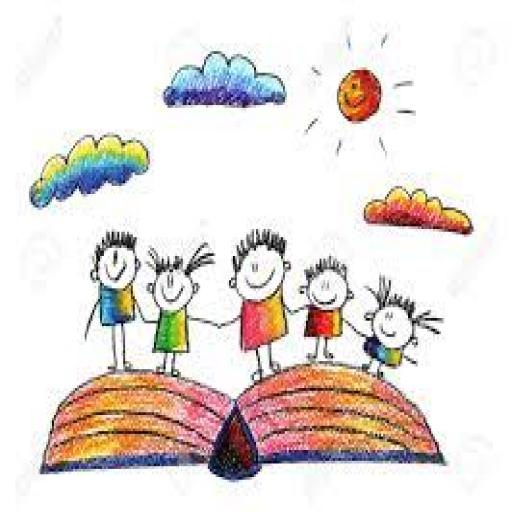person: (217, 226, 295, 387), (353, 267, 447, 395), (138, 236, 216, 378), (77, 222, 144, 387), (292, 252, 354, 369)
